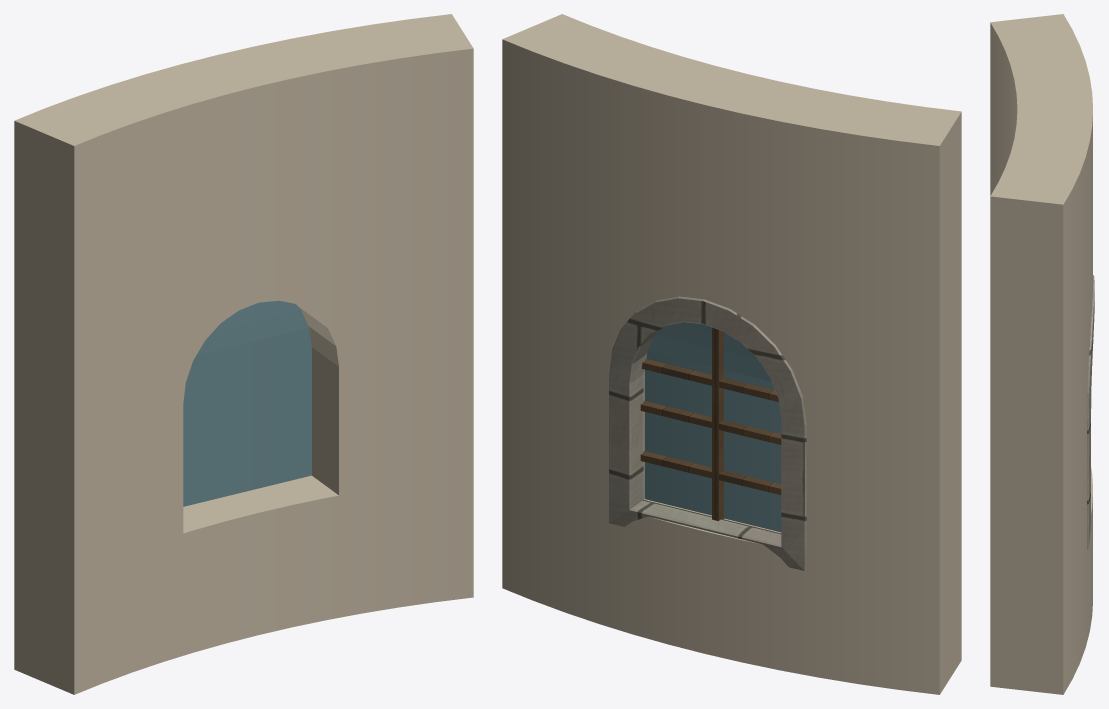
The model's file is Furn_Tower3_R50_Window.fbx.
The picture shows the model from 3 angles, left to right: view 1: azimuth 30°, elevation 25°; view 2: azimuth 150°, elevation 25°; view 3: azimuth 270°, elevation 25°; orthographic projection. The views are drawn at different scales.
Parts seen in each view (by area): view 1: Furn_Tower3_R50_Window; view 2: Furn_Tower3_R50_Window; view 3: Furn_Tower3_R50_Window.
Part boxes in pixels (x1=…): Furn_Tower3_R50_Window: x1=14, y1=14, x2=473, y2=694; Furn_Tower3_R50_Window: x1=502, y1=14, x2=961, y2=694; Furn_Tower3_R50_Window: x1=990, y1=14, x2=1094, y2=694.
Bounding box in the file's own units: 2.92 × 3.5 × 0.6755.
